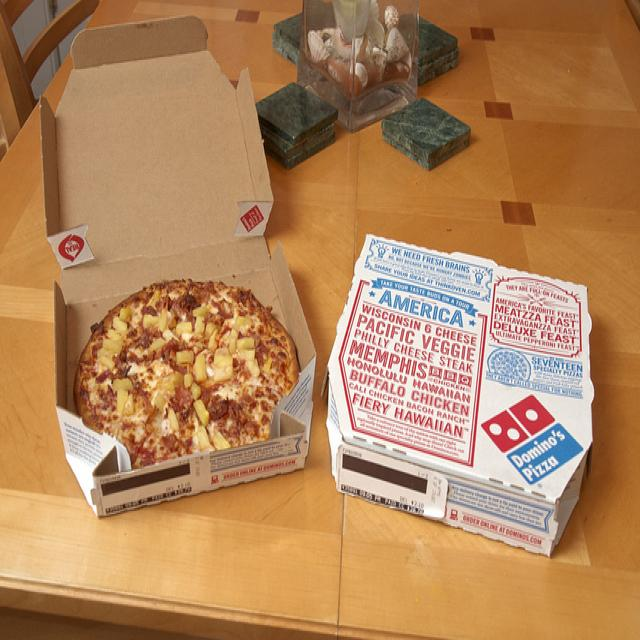chair: (0, 0, 100, 152)
dining table: (1, 4, 638, 634)
